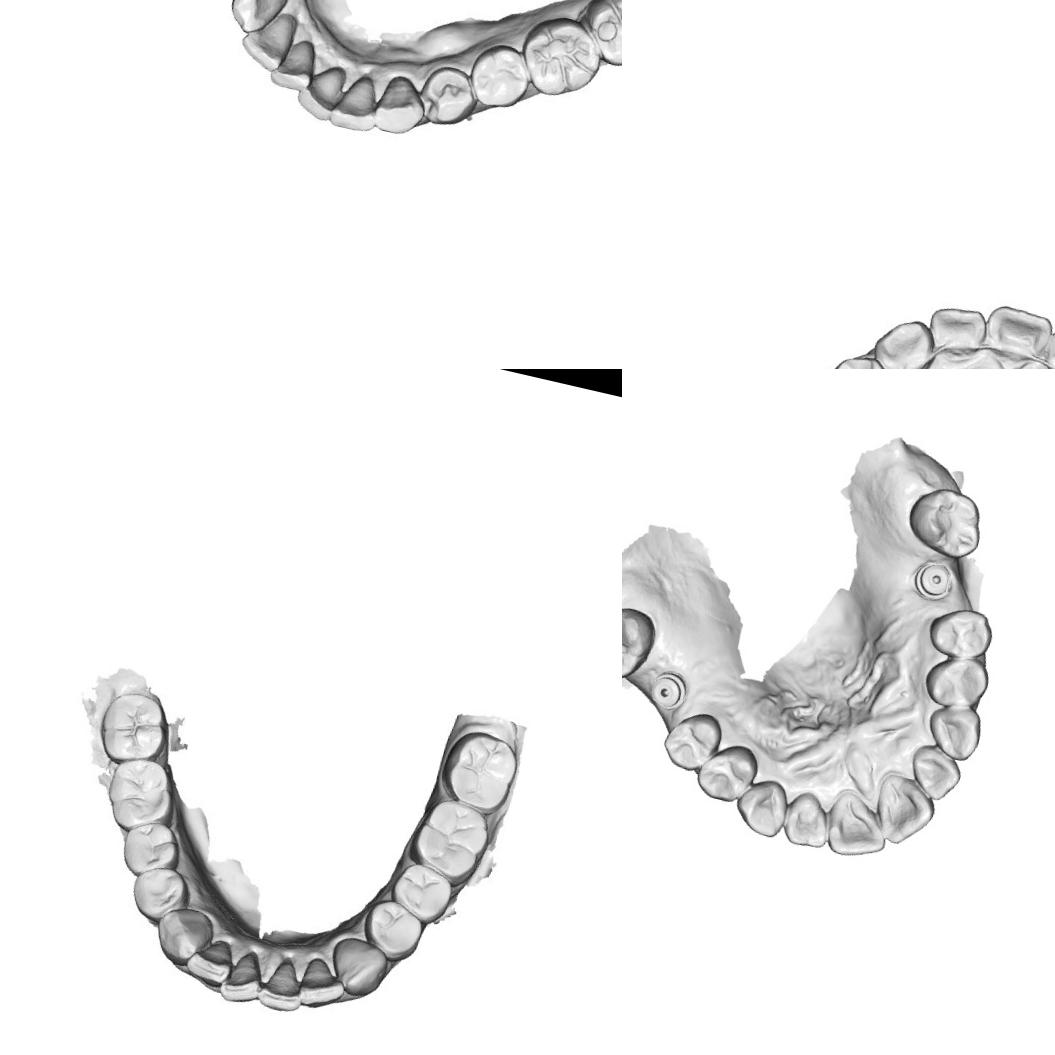canine: (321, 930, 393, 1002), (145, 900, 216, 972), (368, 68, 432, 142), (922, 698, 986, 764), (730, 772, 792, 840), (871, 313, 941, 369), (231, 0, 287, 31)
implant: (909, 556, 958, 606), (644, 667, 691, 715)
incisor: (818, 784, 895, 865), (867, 769, 942, 852), (984, 304, 1055, 367), (922, 302, 986, 368), (904, 739, 967, 805), (778, 785, 838, 854), (179, 934, 240, 996), (294, 61, 354, 123), (214, 945, 269, 1012), (330, 70, 386, 134), (241, 9, 296, 71), (296, 951, 350, 1014), (258, 954, 310, 1019), (271, 37, 319, 90)
molar: (516, 10, 609, 108), (407, 794, 494, 891), (434, 723, 523, 816), (98, 752, 187, 842), (900, 480, 990, 564), (92, 684, 172, 773), (574, 0, 622, 76), (622, 599, 659, 688)
premolar: (358, 894, 431, 965), (386, 858, 460, 928), (920, 647, 994, 717), (692, 736, 763, 808), (656, 704, 726, 777), (125, 859, 196, 930), (115, 812, 185, 883), (924, 600, 998, 664), (471, 43, 533, 112), (423, 64, 476, 128), (821, 347, 907, 369)
